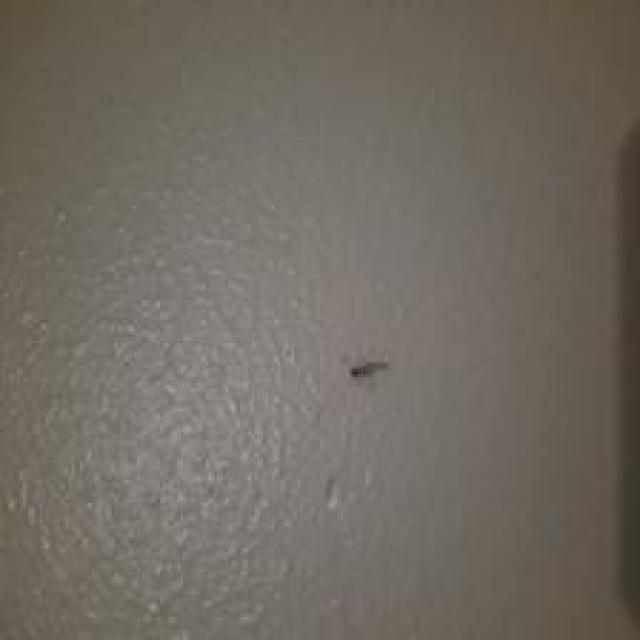Culex: (348, 360, 388, 380)
